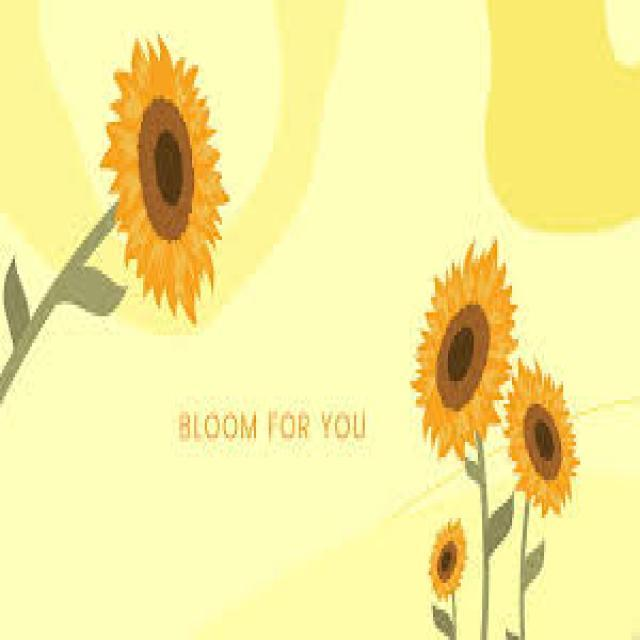sunflower: (98, 33, 228, 324), (409, 236, 518, 457), (502, 358, 580, 518), (430, 514, 468, 598)
